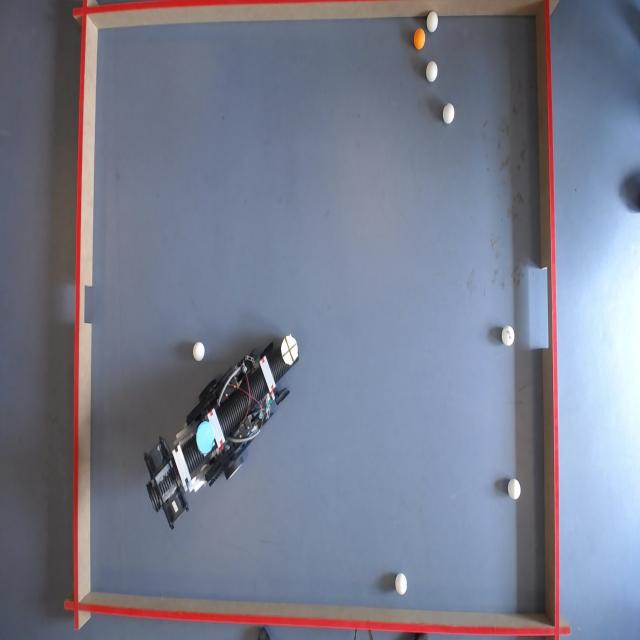orange: (414, 30, 428, 50)
robot: (135, 337, 303, 525)
robot-front: (283, 336, 299, 366)
robot-rear: (197, 420, 217, 454)
white: (510, 480, 524, 502), (395, 572, 408, 595), (444, 104, 457, 125), (426, 11, 439, 32), (426, 62, 438, 84), (192, 342, 205, 362), (503, 326, 515, 345)
